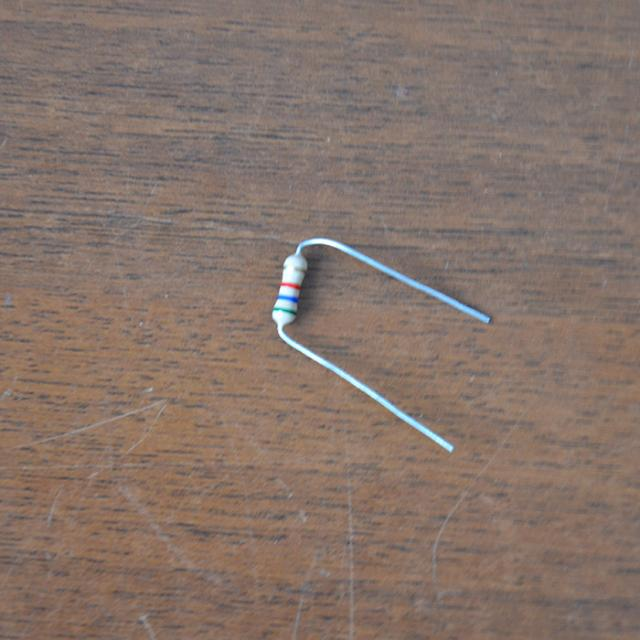blue: (278, 293, 297, 301)
gold: (283, 263, 306, 271)
green: (273, 306, 295, 314)
red: (280, 282, 299, 289)
